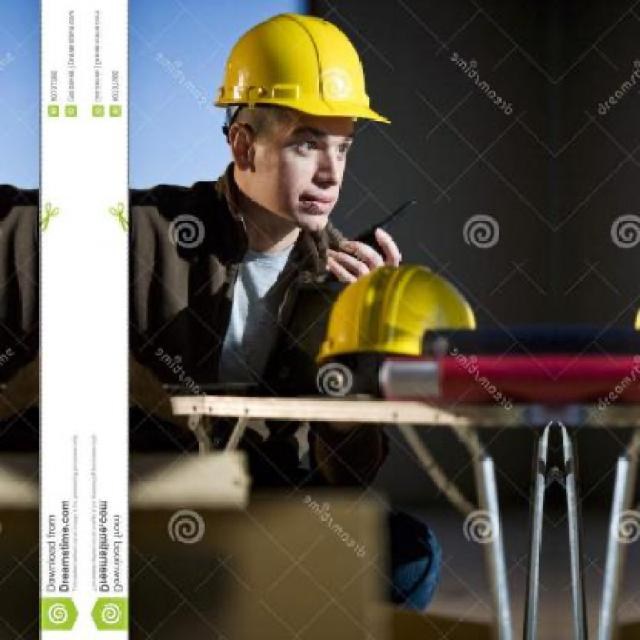helmet: (203, 6, 397, 237)
